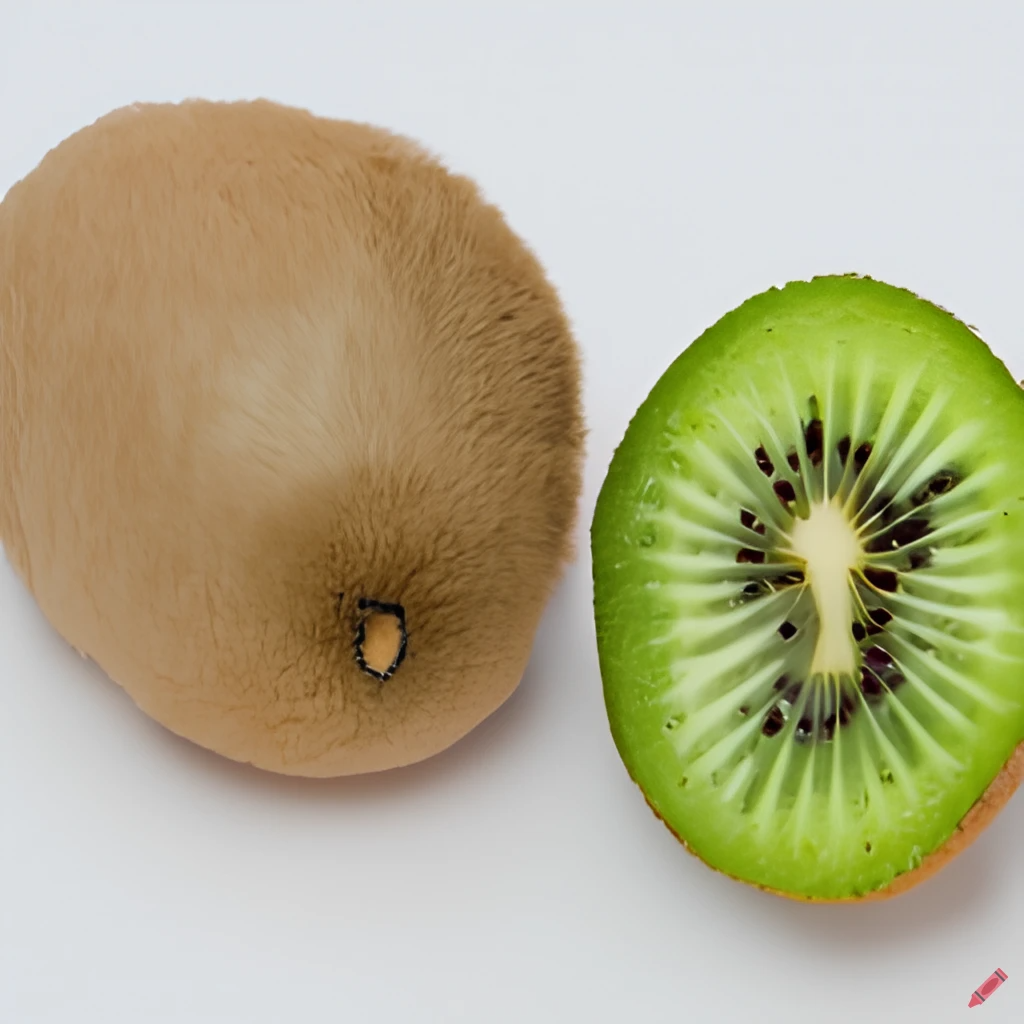Kiwi: (0, 43, 588, 862), (545, 242, 1024, 902)
